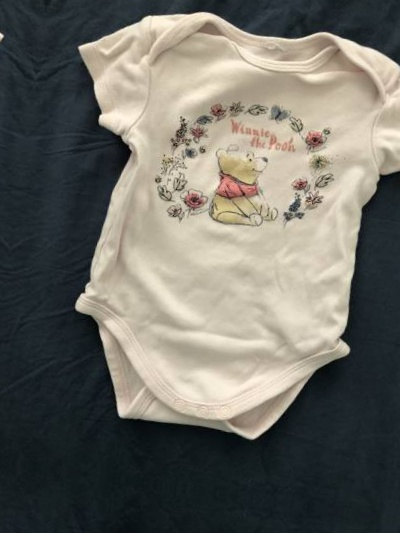Body: (0, 0, 400, 482), (0, 0, 35, 420), (0, 498, 380, 533)
